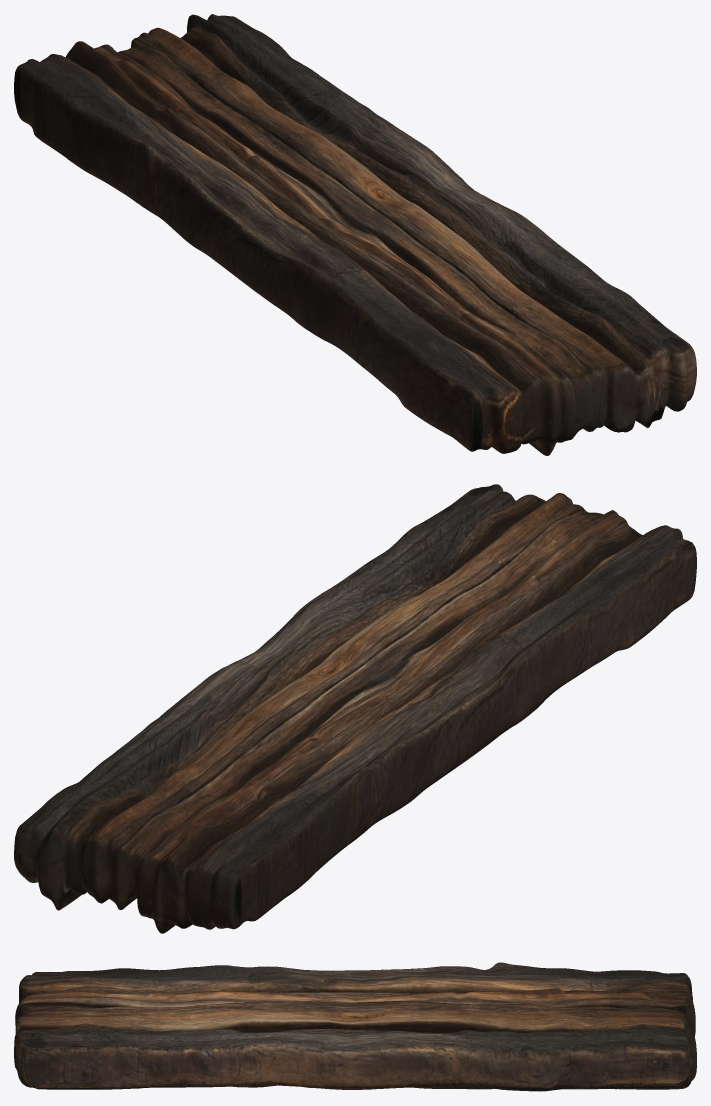
File: BigPlank2.fbx
The picture shows the model from 3 angles, top to bottom: view 1: azimuth 30°, elevation 25°; view 2: azimuth 150°, elevation 25°; view 3: azimuth 270°, elevation 25°; orthographic projection. The views are drawn at different scales.
Visible parts, largest first — view 1: bigwoodenP3.001; view 2: bigwoodenP3.001; view 3: bigwoodenP3.001.
Boxes of the visible parts, x1=… form: bigwoodenP3.001: x1=14, y1=14, x2=696, y2=455; bigwoodenP3.001: x1=14, y1=484, x2=696, y2=933; bigwoodenP3.001: x1=14, y1=962, x2=696, y2=1091.
Bounding box in the file's own units: 55.33 × 21.27 × 200.
Materials: 1 (1 with a texture image).
